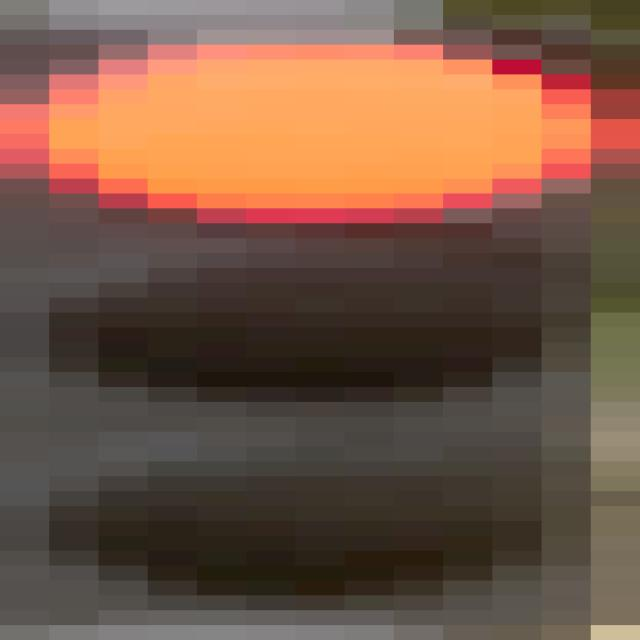red_light: (0, 43, 640, 629)
